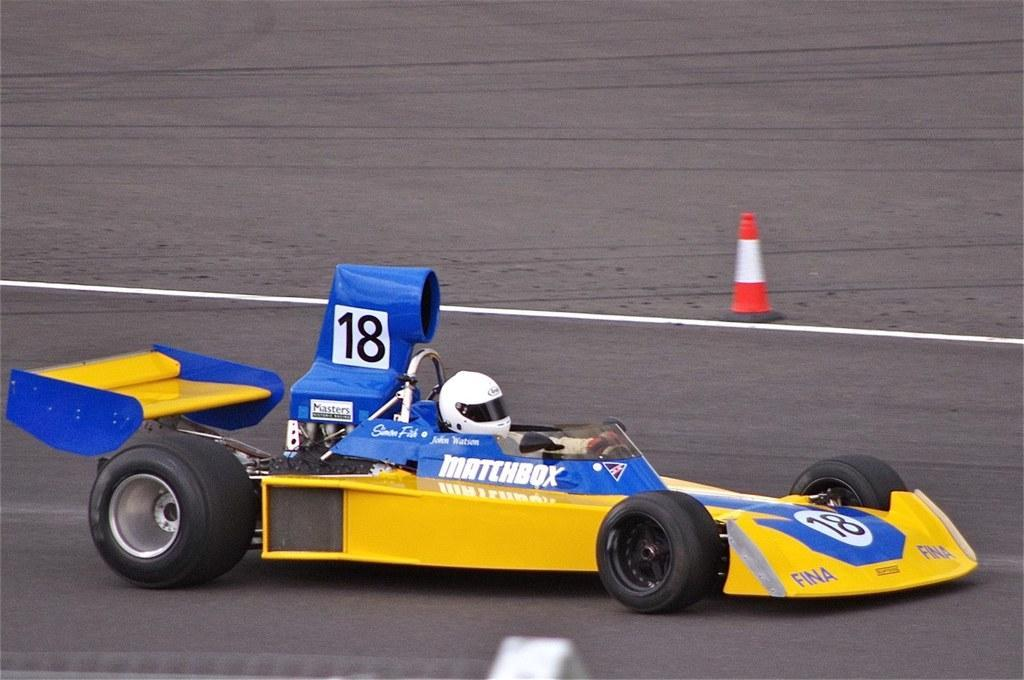helmet: (438, 369, 512, 438)
